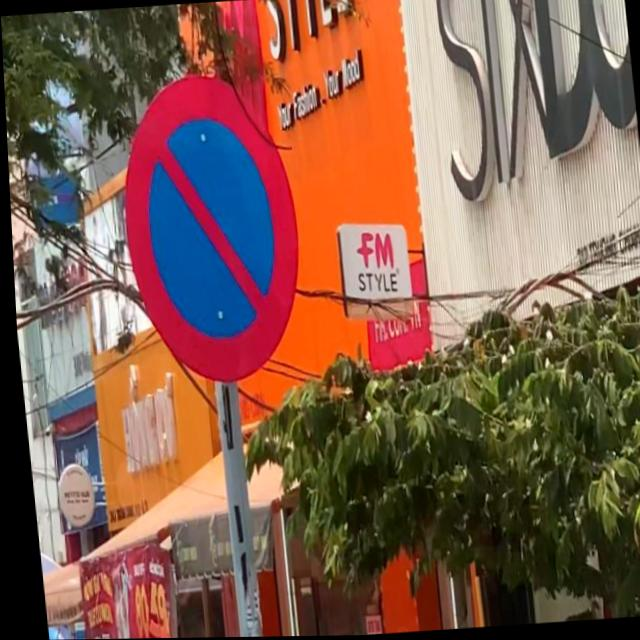Cam do xe: (109, 69, 309, 388)
